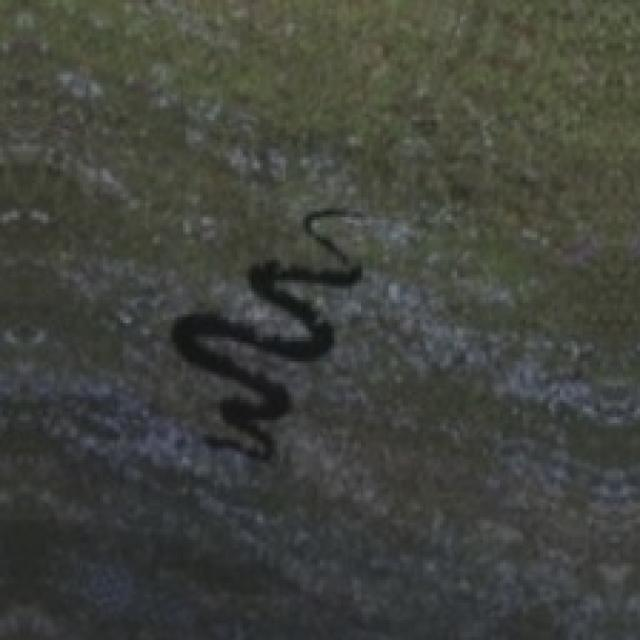king cobra: (171, 209, 360, 457)
